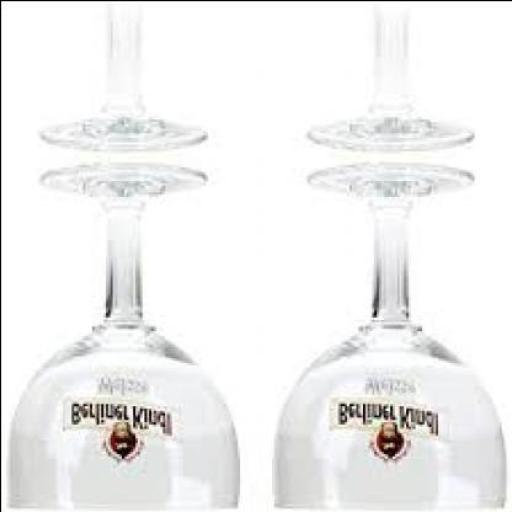glass: (271, 164, 503, 510), (4, 166, 234, 510)
